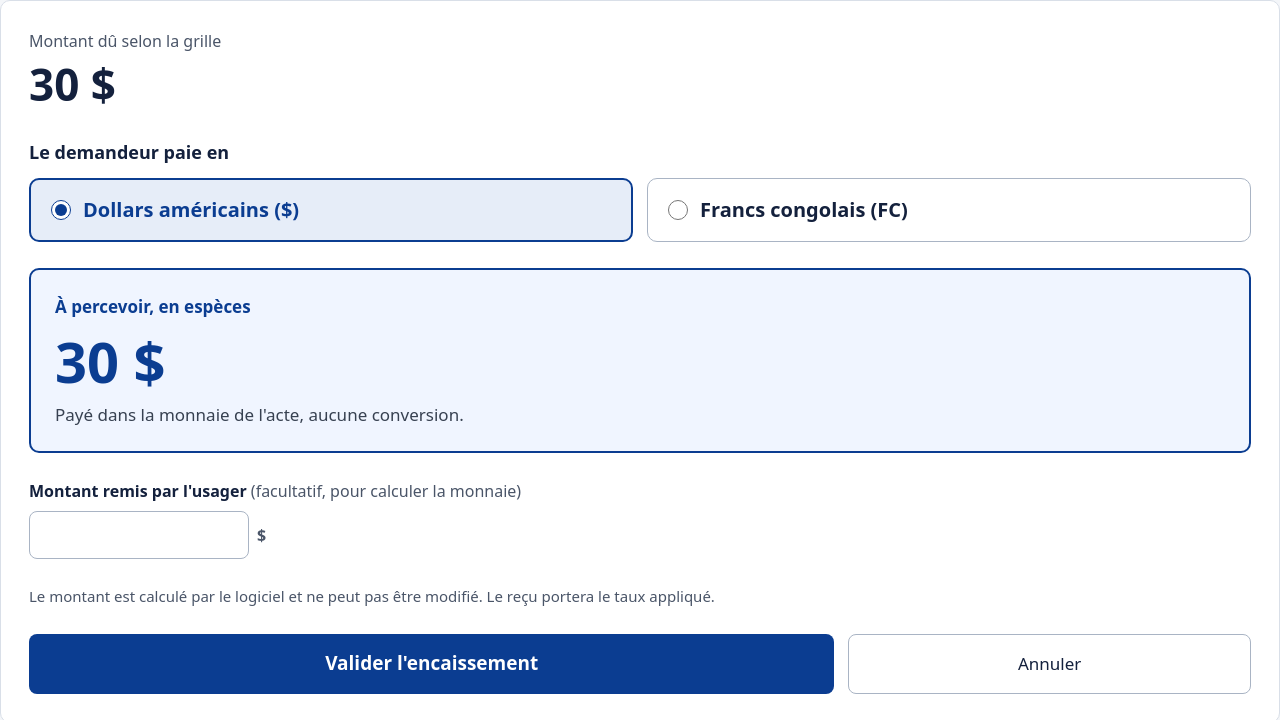
Test: Encaissement d'un acte en dollars › « Corriger » ferme la confirmation sans rien envoyer ; montant insuffisant signalé
This screenshot has width=1280, height=720.
In the field labelled "Montant remis par l'usager": (139, 535) top-left (29, 511), bottom-right (249, 559), type "20"
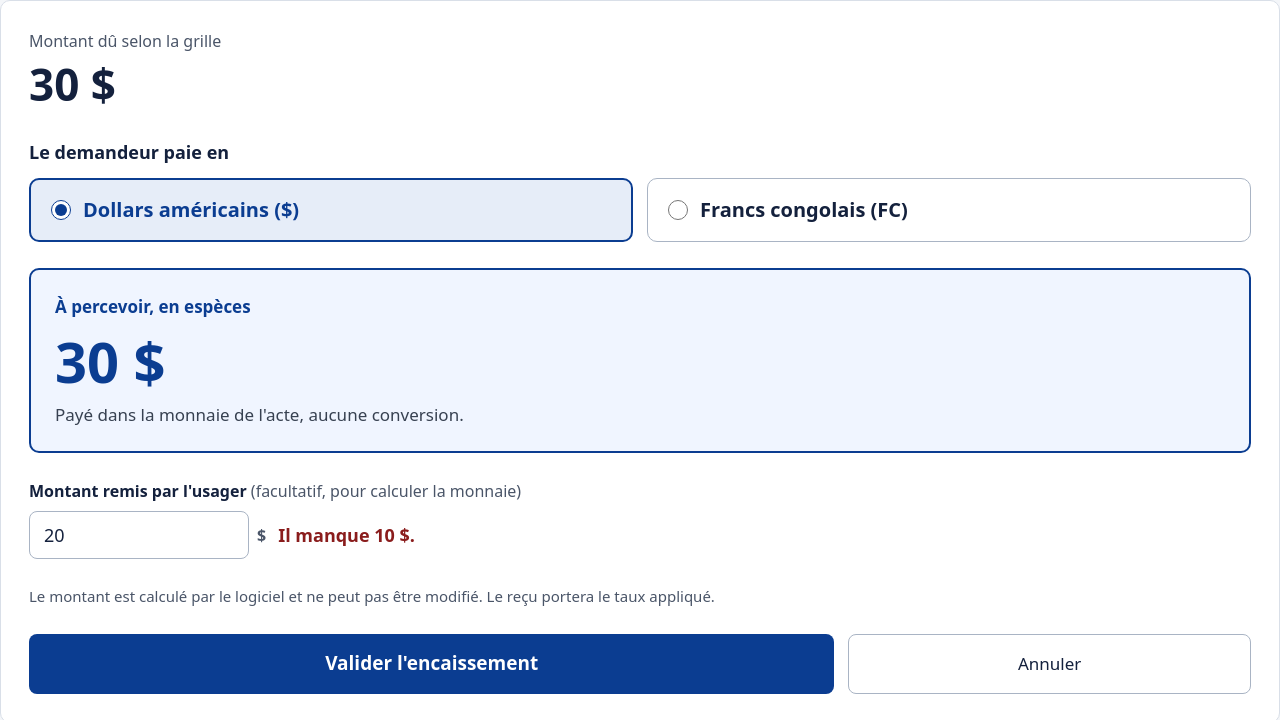
Check: the text with test id "monnaie" reads "Il manque 10 $.", box top-left (278, 523), bottom-right (415, 547)
Click the button "Valider l'encaissement": (432, 664) top-left (29, 634), bottom-right (834, 694)
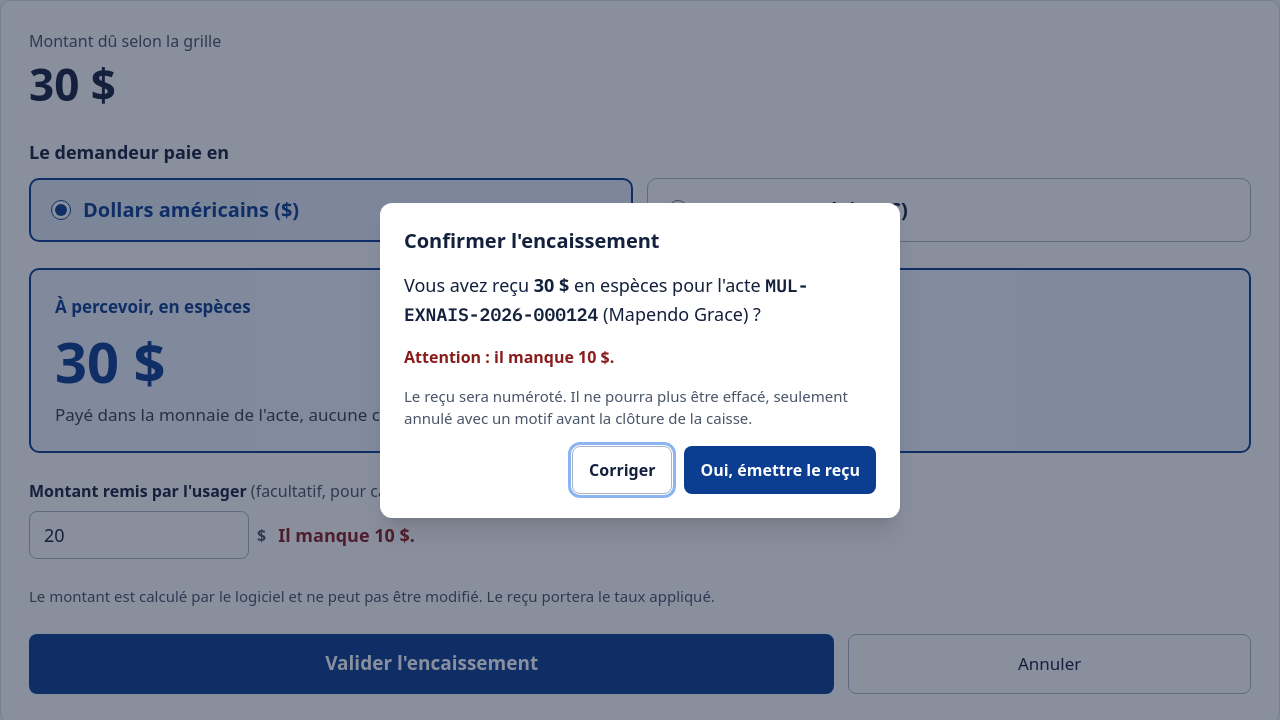
Check: the text "Attention : il manque 10 $." is shown, box top-left (404, 346), bottom-right (614, 368)
Click the button "Corriger": (622, 470) top-left (572, 446), bottom-right (672, 494)
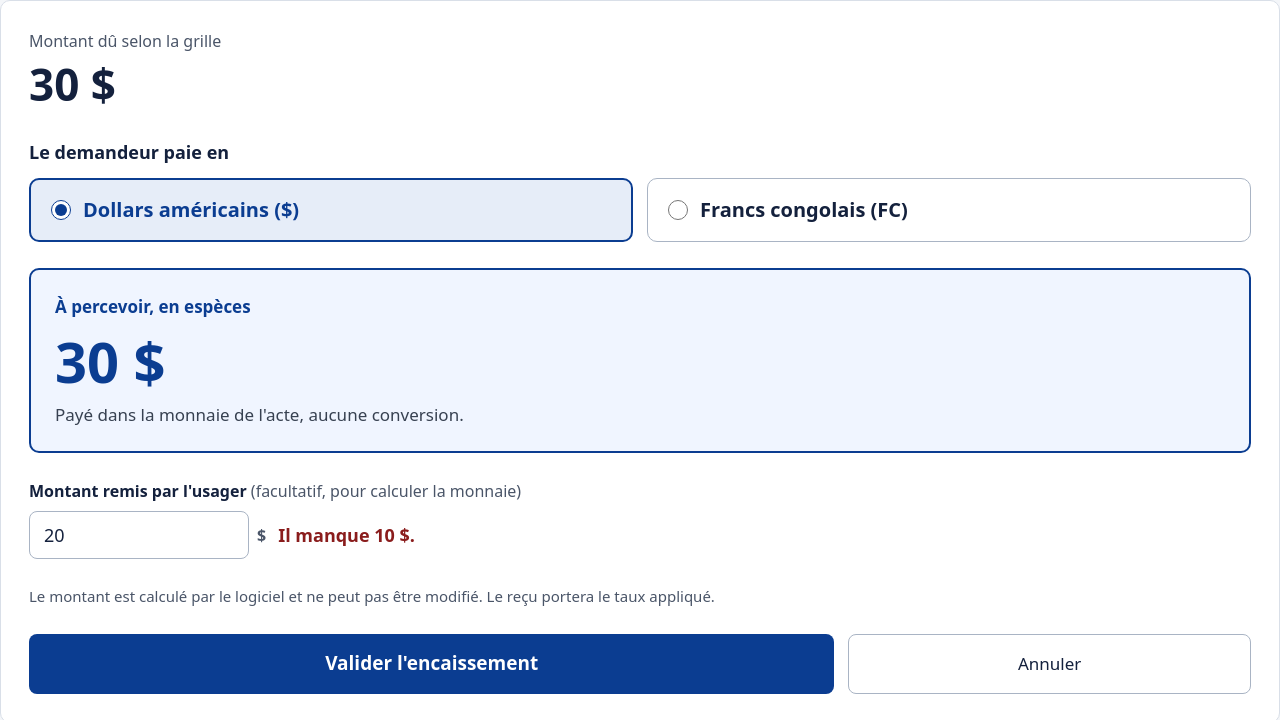
Check: the dialog is gone
